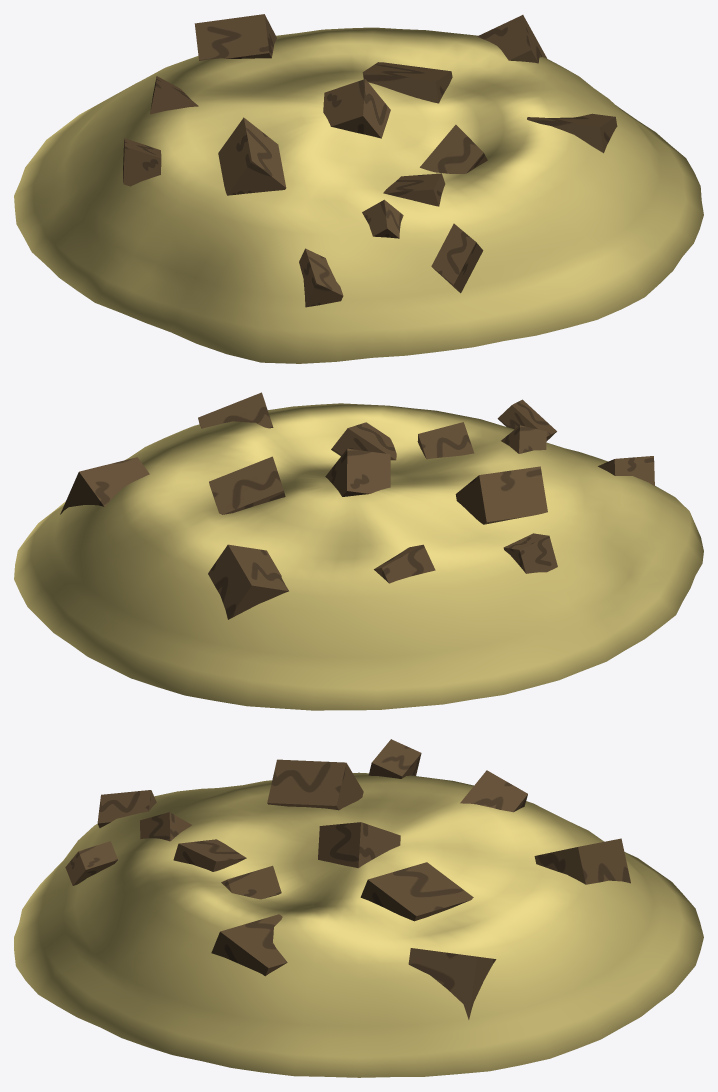
File: item-cookie.glb
3 views of the same model, one above another, from view 1: azimuth 30°, elevation 25°; view 2: azimuth 150°, elevation 25°; view 3: azimuth 270°, elevation 25° (orthographic). The views are drawn at different scales.
Bounding box in the file's own units: 2.24 × 0.4674 × 2.32.
Materials: 2 (1 with a texture image).
